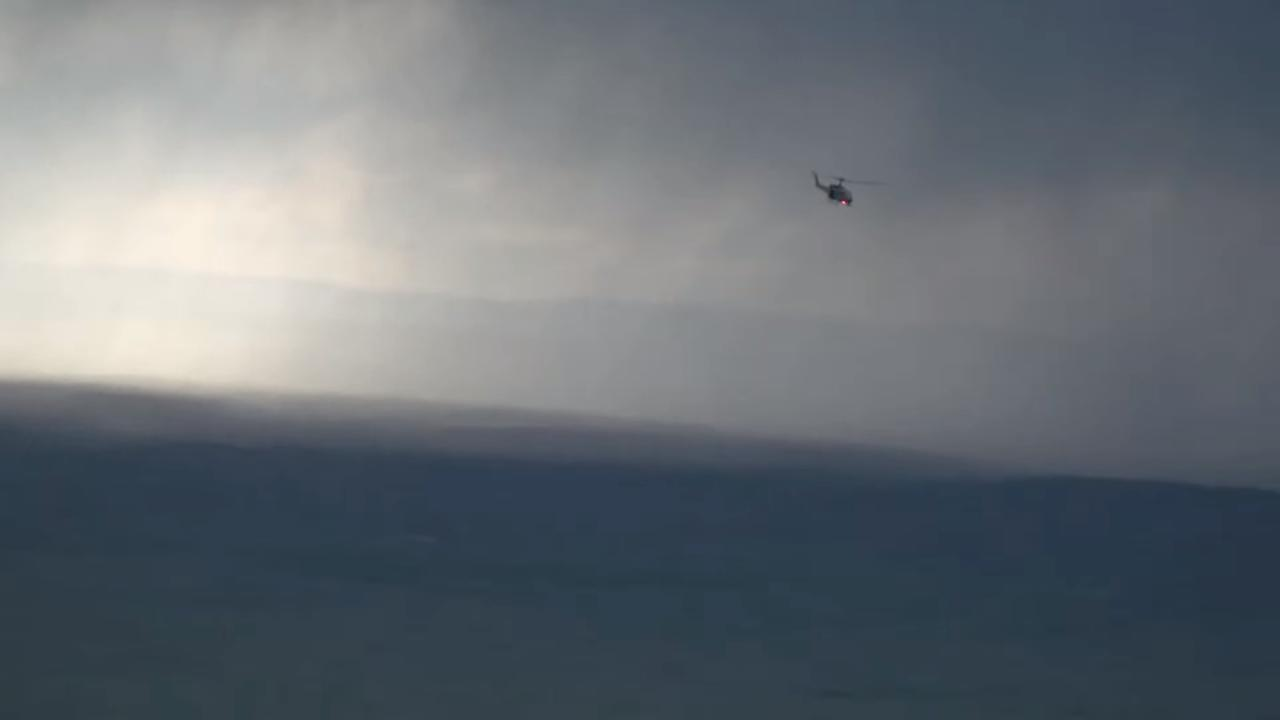Helicopter: (782, 152, 899, 226)
